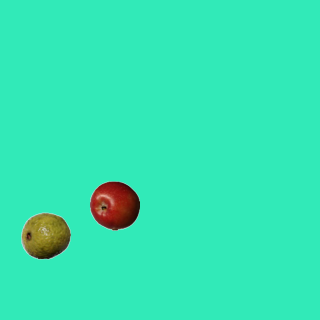Apple Braeburn: (89, 180, 139, 230)
Guava: (20, 210, 70, 260)
